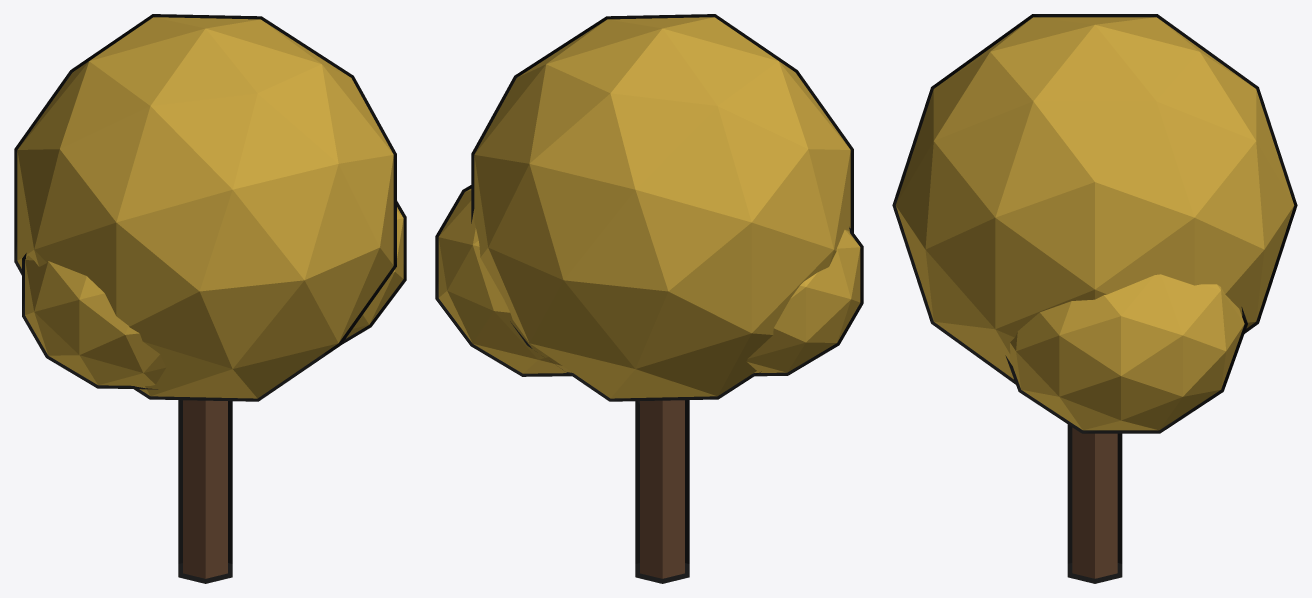
The model's file is Agac_yuvarlak_2.fbx.
3 views of the same model, side by side, from view 1: azimuth 30°, elevation 25°; view 2: azimuth 150°, elevation 25°; view 3: azimuth 270°, elevation 25° (orthographic).
Visible parts, largest first — view 1: Agac_yuvarlak_2; view 2: Agac_yuvarlak_2; view 3: Agac_yuvarlak_2.
Part boxes in pixels (x1=…): Agac_yuvarlak_2: x1=14, y1=14, x2=406, y2=583; Agac_yuvarlak_2: x1=435, y1=14, x2=863, y2=583; Agac_yuvarlak_2: x1=892, y1=14, x2=1297, y2=583.
Size of the model in its own units: 2.58 by 3.48 by 2.33.
